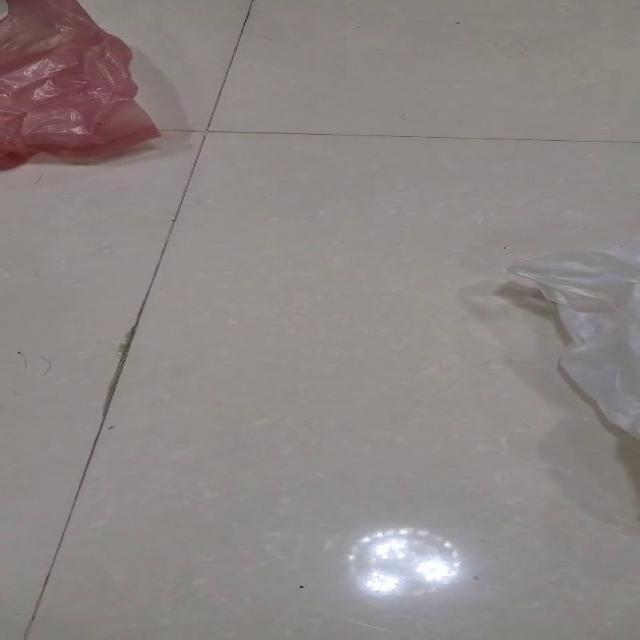plastic: (0, 0, 161, 170), (504, 238, 638, 441)
